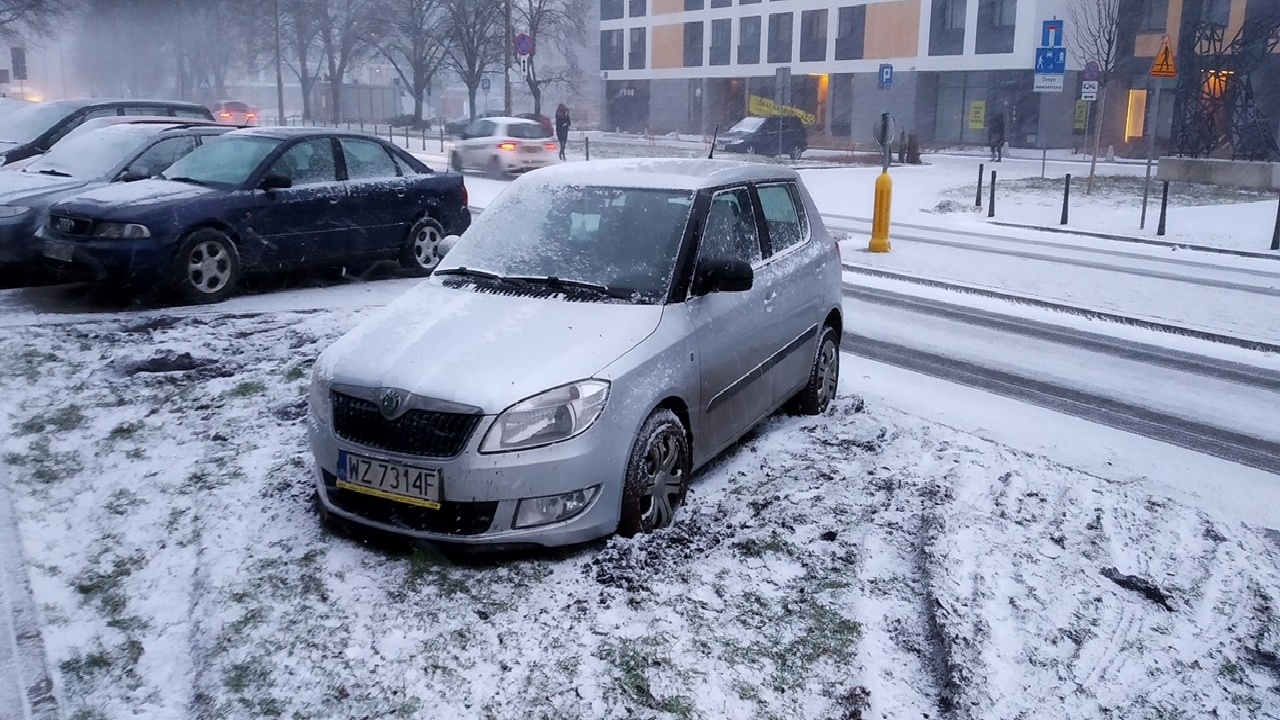A16: (1149, 32, 1181, 75)
D40: (1033, 45, 1068, 74)
